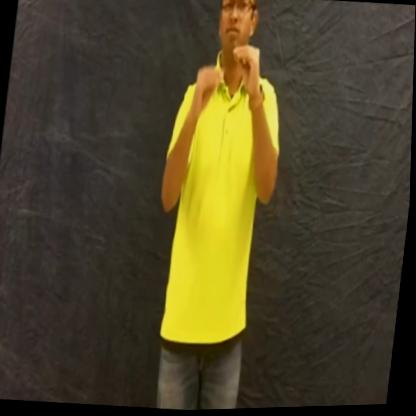Fix: (186, 26, 274, 128)
